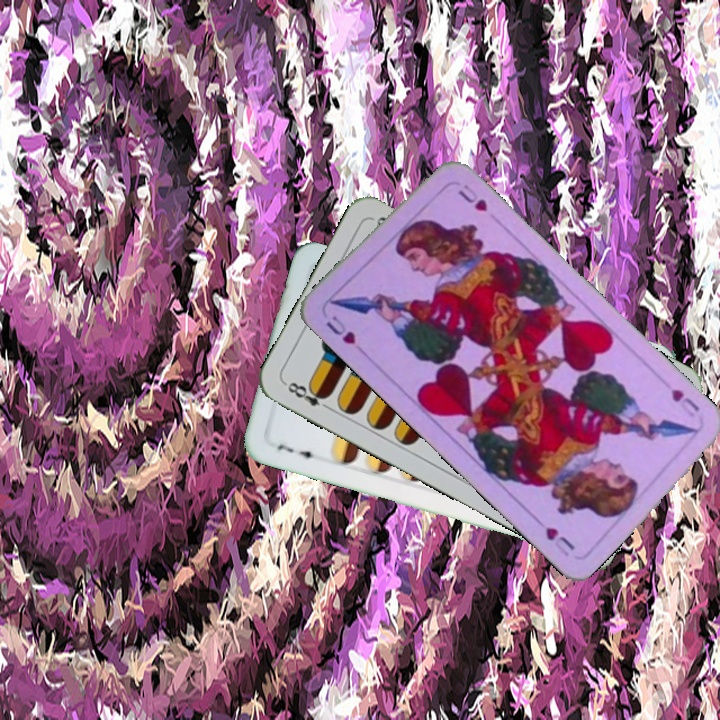E7: (271, 440, 321, 463)
E8: (281, 378, 335, 414)
HU: (321, 311, 359, 347), (667, 385, 703, 421)
